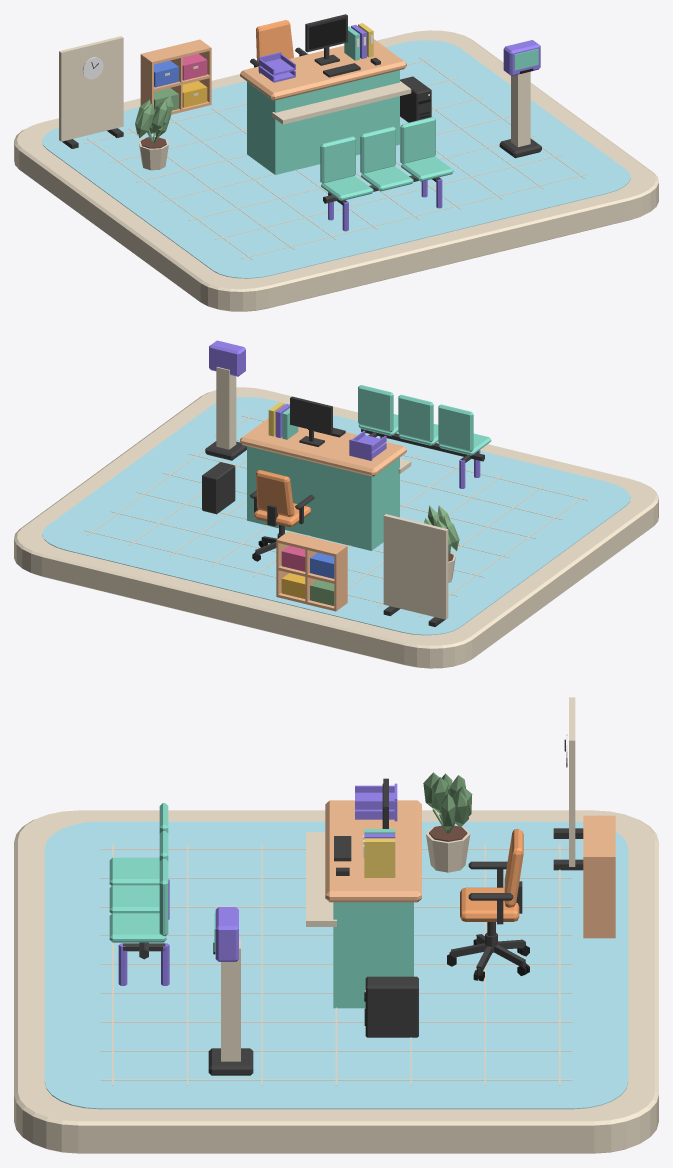
File: room.fbx
3 renders of one model, top to bottom at view 1: azimuth 30°, elevation 25°; view 2: azimuth 150°, elevation 25°; view 3: azimuth 270°, elevation 25°, orthographic. The views are drawn at different scales.
Visible parts, largest first — view 1: COM-02 Floor Surface, COM-01 Rounded Base Direct, Counter body, Panel, Countertop, Pot, Visitor shelf, Frame, Back.001, Back.002, Back, Pedestal (+14 smaller); view 2: COM-02 Floor Surface, COM-01 Rounded Base Direct, Counter body, Panel, Countertop, COM-04_Chair_blender_direct, Pedestal, Tower, Frame, Back, Back.001, Back.002 (+9 smaller); view 3: COM-02 Floor Surface, COM-01 Rounded Base Direct, Counter body, Countertop, COM-04_Chair_blender_direct, Pot, Tower, Cubbies divider.002, Visitor shelf, Pedestal, Seat.002, Seat (+10 smaller).
Boxes of the visible parts, bbox=[...] form: COM-02 Floor Surface: bbox=[42, 40, 630, 278]; COM-01 Rounded Base Direct: bbox=[14, 30, 658, 311]; Counter body: bbox=[247, 70, 399, 174]; Panel: bbox=[59, 36, 123, 141]; Countertop: bbox=[240, 39, 406, 100]; Pot: bbox=[135, 95, 173, 170]; Visitor shelf: bbox=[272, 81, 411, 124]; Frame: bbox=[305, 14, 347, 65]; Back.001: bbox=[360, 126, 395, 173]; Back.002: bbox=[400, 117, 435, 163]; Back: bbox=[320, 136, 355, 183]; Pedestal: bbox=[511, 71, 530, 147]; COM-02 Floor Surface: bbox=[42, 397, 630, 635]; COM-01 Rounded Base Direct: bbox=[14, 387, 658, 668]; Counter body: bbox=[247, 446, 399, 550]; Panel: bbox=[383, 514, 448, 619]; Countertop: bbox=[240, 418, 406, 476]; COM-04_Chair_blender_direct: bbox=[250, 470, 314, 561]; Pedestal: bbox=[216, 367, 236, 449]; Tower: bbox=[202, 462, 235, 514]; Frame: bbox=[290, 396, 332, 446]; Back: bbox=[438, 404, 473, 451]; Back.001: bbox=[398, 394, 433, 441]; Back.002: bbox=[358, 385, 393, 432]; COM-02 Floor Surface: bbox=[44, 821, 628, 1109]; COM-01 Rounded Base Direct: bbox=[14, 810, 658, 1153]; Counter body: bbox=[333, 902, 413, 1008]; Countertop: bbox=[325, 800, 421, 902]; COM-04_Chair_blender_direct: bbox=[447, 829, 529, 981]; Pot: bbox=[423, 772, 472, 872]; Tower: bbox=[365, 976, 418, 1037]; Cubbies divider.002: bbox=[583, 857, 615, 938]; Visitor shelf: bbox=[306, 832, 336, 926]; Pedestal: bbox=[221, 939, 240, 1061]; Seat.002: bbox=[109, 913, 166, 942]; Seat: bbox=[109, 857, 159, 885].
Bounding box in the file's own units: 600 × 187 × 520.
